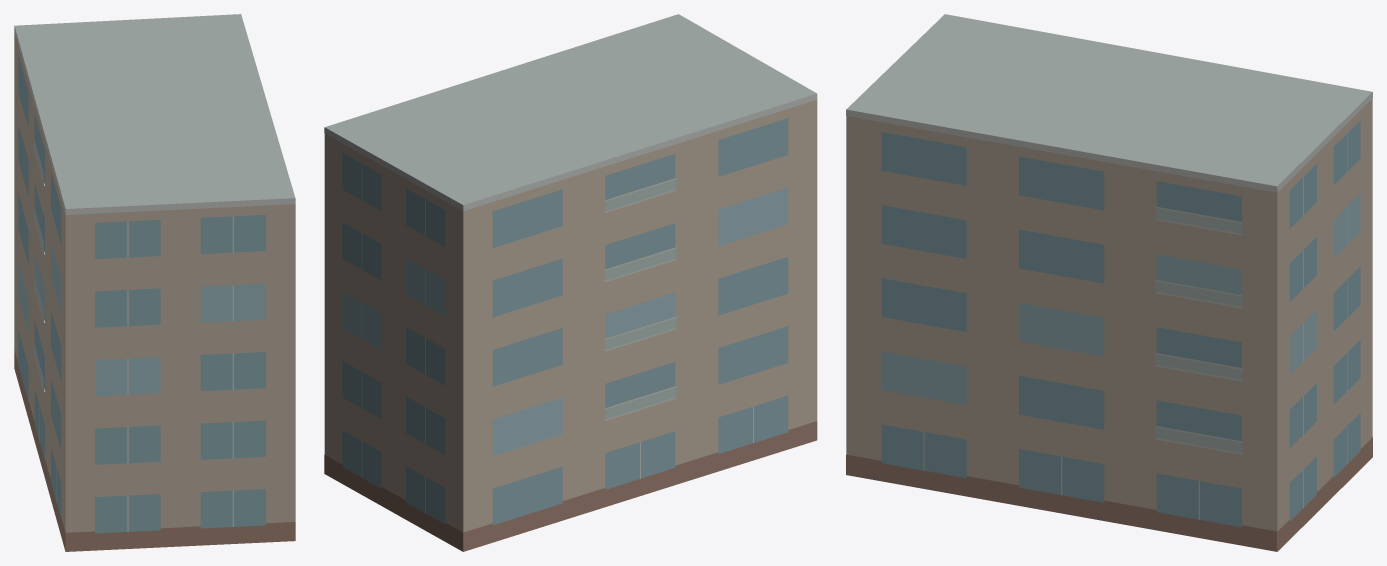
The model's file is survey-upis-33022398.glb.
3 renders of one model, left to right at view 1: azimuth 30°, elevation 25°; view 2: azimuth 150°, elevation 25°; view 3: azimuth 270°, elevation 25°, orthographic. The views are drawn at different scales.
Visible parts, largest first — view 1: survey-upis-33022398.tmp; view 2: survey-upis-33022398.tmp; view 3: survey-upis-33022398.tmp.
Boxes of the visible parts, <box> form: survey-upis-33022398.tmp: <box>14,14,295,551</box>; survey-upis-33022398.tmp: <box>324,14,817,551</box>; survey-upis-33022398.tmp: <box>846,14,1372,551</box>.
Bounding box in the file's own units: 14.17 × 14 × 18.29.
